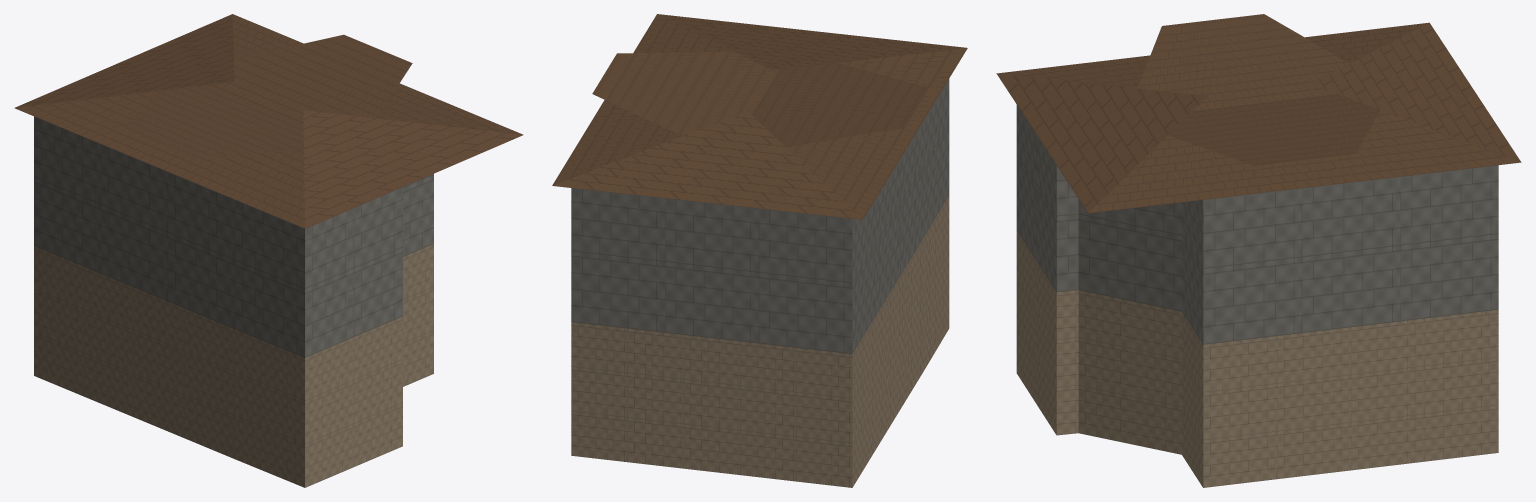
The model's file is bld_c42_34_264.gltf.
The picture shows the model from 3 angles, left to right: view 1: azimuth 30°, elevation 25°; view 2: azimuth 150°, elevation 25°; view 3: azimuth 270°, elevation 25°; orthographic projection. The views are drawn at different scales.
Visible parts, largest first — view 1: bld_c42_34_264; view 2: bld_c42_34_264; view 3: bld_c42_34_264.
Boxes of the visible parts, x1,y1,x2,y2 form: bld_c42_34_264: (14, 14, 523, 487); bld_c42_34_264: (552, 14, 967, 487); bld_c42_34_264: (996, 14, 1521, 487).
Size of the model in its own units: 14.56 by 11.5 by 16.95.
3 materials, 3 textured.
